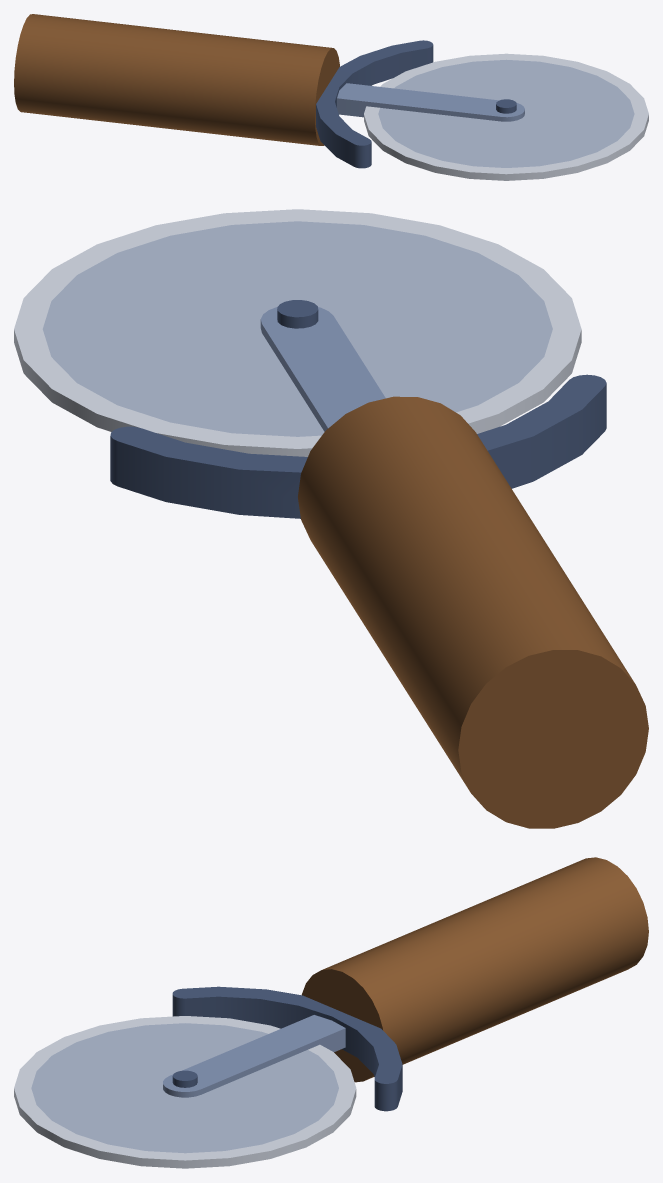
The model's file is Pizza Knife.fbx.
3 renders of one model, top to bottom at view 1: azimuth 30°, elevation 25°; view 2: azimuth 150°, elevation 25°; view 3: azimuth 270°, elevation 25°, orthographic. The views are drawn at different scales.
Parts seen in each view (by area): view 1: Pizza Knife; view 2: Pizza Knife; view 3: Pizza Knife.
Part boxes in pixels (left/top/right/bottom): Pizza Knife: left=14, top=14, right=648, bottom=180; Pizza Knife: left=14, top=209, right=648, bottom=828; Pizza Knife: left=14, top=857, right=648, bottom=1168.
Bounding box in the file's own units: 1.05 × 0.1976 × 1.05.
